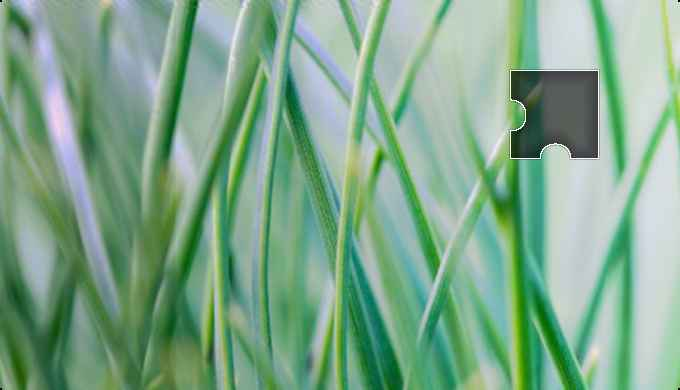gap: (508, 70, 600, 160)
